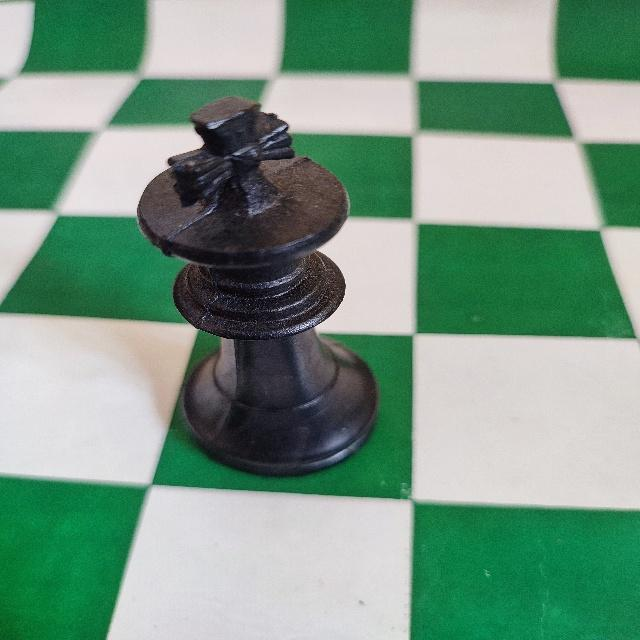King: (130, 91, 381, 479)
